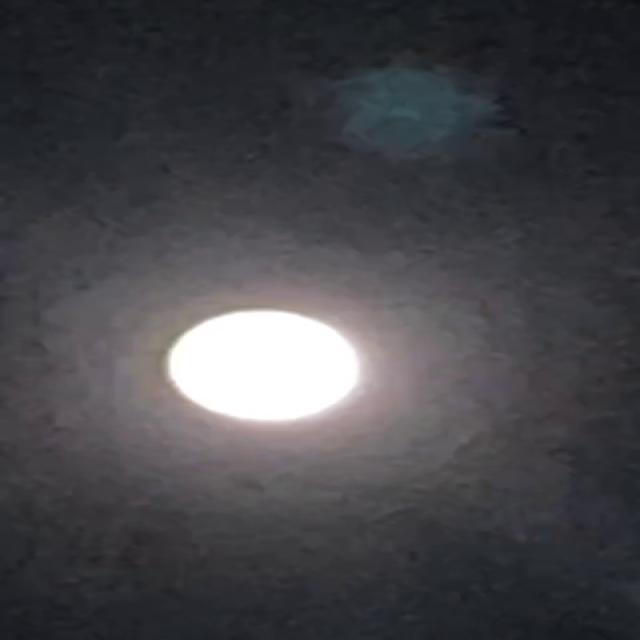moon: (159, 294, 382, 438)
